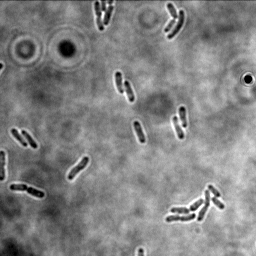Dividing: (9, 182, 46, 200), (0, 150, 8, 183)
Microcolony: (164, 184, 226, 224)
Rod: (166, 8, 186, 40), (67, 156, 90, 181), (10, 127, 29, 147), (171, 115, 186, 140), (132, 119, 147, 144), (21, 128, 38, 149), (123, 80, 136, 103), (102, 4, 115, 26), (114, 70, 124, 95), (178, 104, 188, 128), (166, 2, 179, 20), (163, 18, 178, 33)
